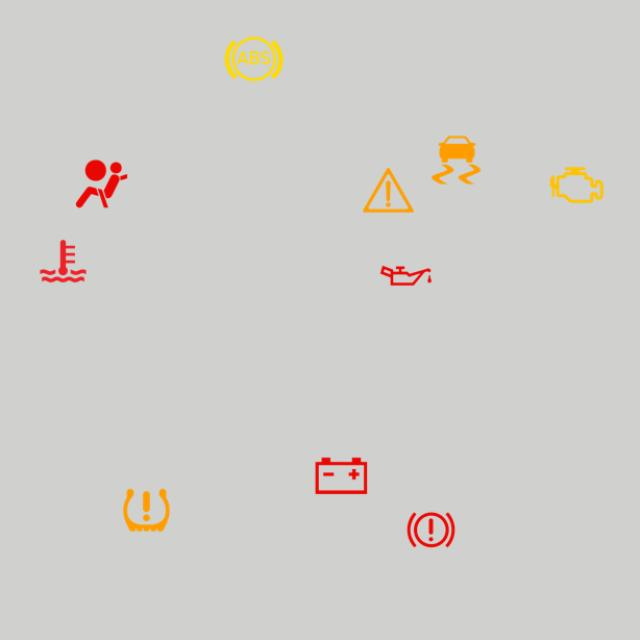Anti Lock Braking System: (222, 27, 286, 91)
Braking System Issue: (399, 498, 463, 562)
Charging System Issue: (310, 444, 373, 508)
Check Engine: (545, 153, 609, 217)
Electronic Stability Problem -ESP-: (424, 128, 488, 192)
Engine Overheating Warning Light: (31, 229, 95, 293)
Low Engine Oil Warning Light: (374, 244, 438, 307)
Low Tire Pressure Warning Light: (115, 478, 178, 542)
Master warning light: (357, 158, 420, 222)
SRS-Airbag: (70, 152, 133, 216)
